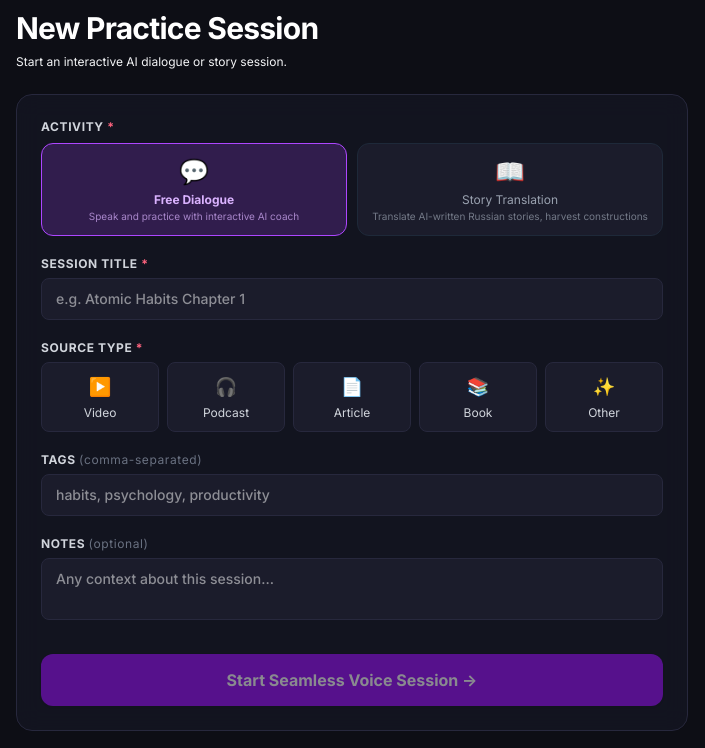
Test: Session Wizard Component › Activity selector and Step-2 branching › shows the activity selector first and hides dialogue-only fields for translation
Check: the field with placeholder "e.g. Atomic Habits Chapter 1" is shown, box [41, 278, 663, 320]
Check: the text "Video" is shown, box [84, 404, 116, 420]
Click the text "Story Translation" at coordinates (510, 200), box [462, 192, 558, 208]
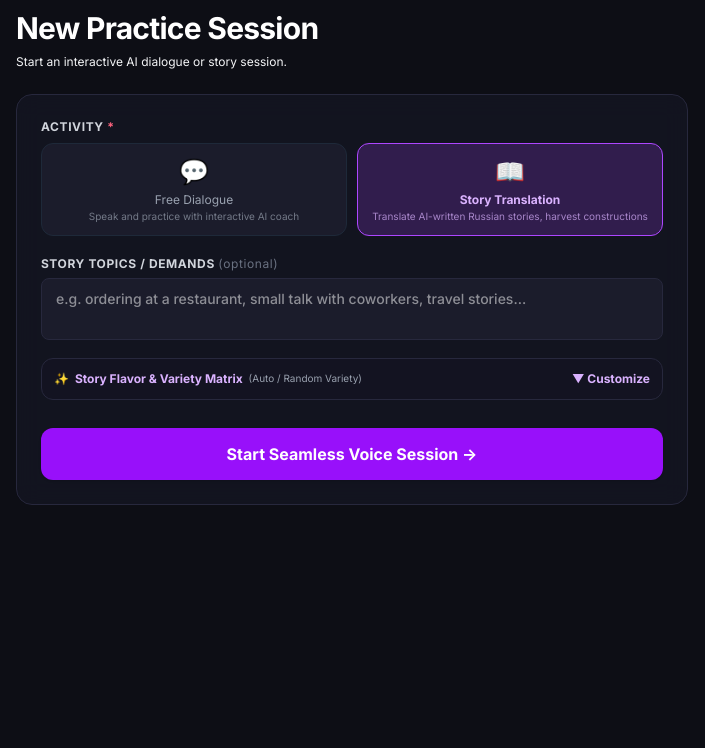
Check: the field with placeholder "Atomic Habits" is not shown
Check: the button "Video" is gone
Check: the text box labelled "Story Topics / Demands (optional)" is shown, box [41, 278, 663, 340]
